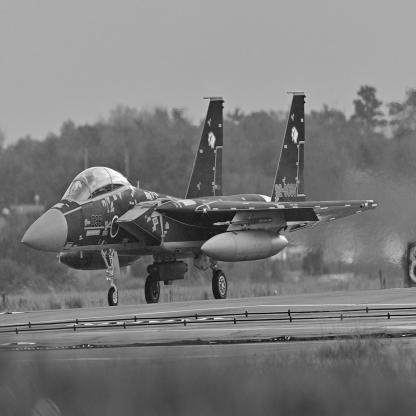F15: (22, 92, 379, 308)
